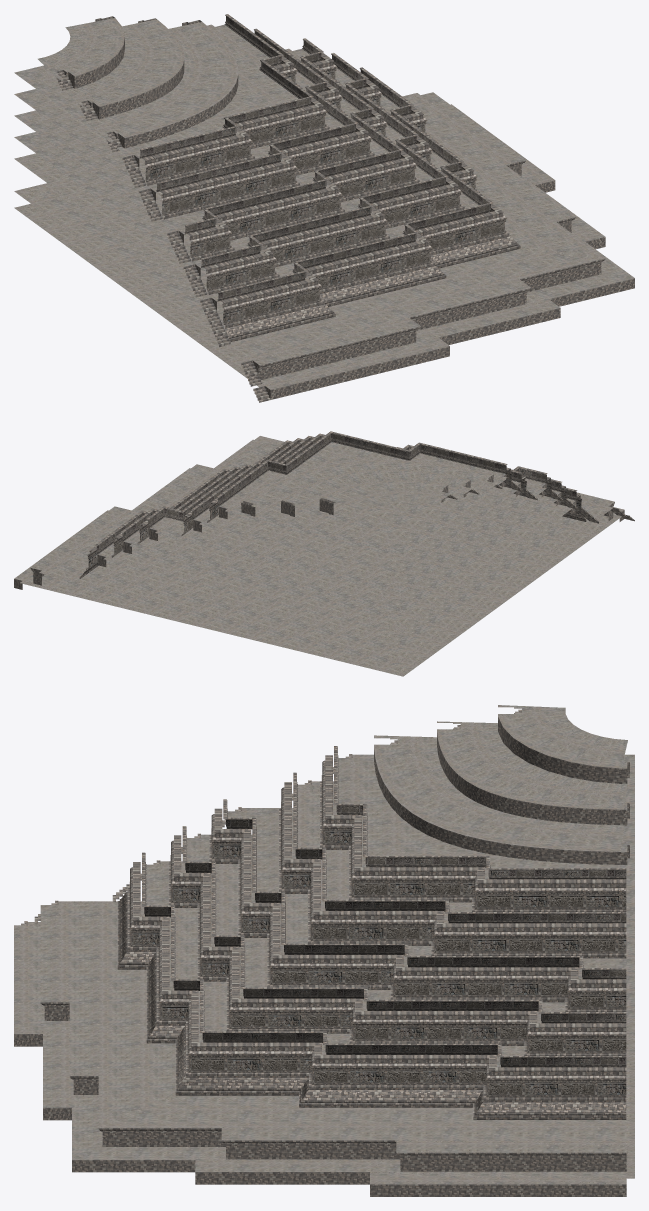
3 renders of one model, top to bottom at view 1: azimuth 30°, elevation 25°; view 2: azimuth 150°, elevation 25°; view 3: azimuth 270°, elevation 25°, orthographic. The views are drawn at different scales.
Parts seen in each view (by area): view 1: Base; view 2: Base; view 3: Base.
Boxes of the visible parts, bbox=[...] form: Base: bbox=[14, 14, 634, 402]; Base: bbox=[14, 431, 634, 676]; Base: bbox=[14, 705, 634, 1196].
Bounding box in the file's own units: 62.35 × 24.23 × 60.93.
